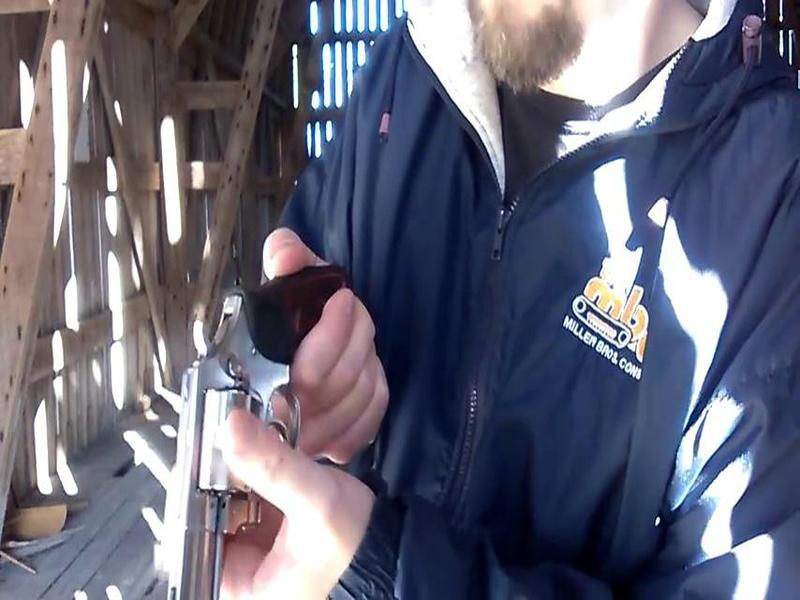Revolver: (136, 235, 397, 600)
